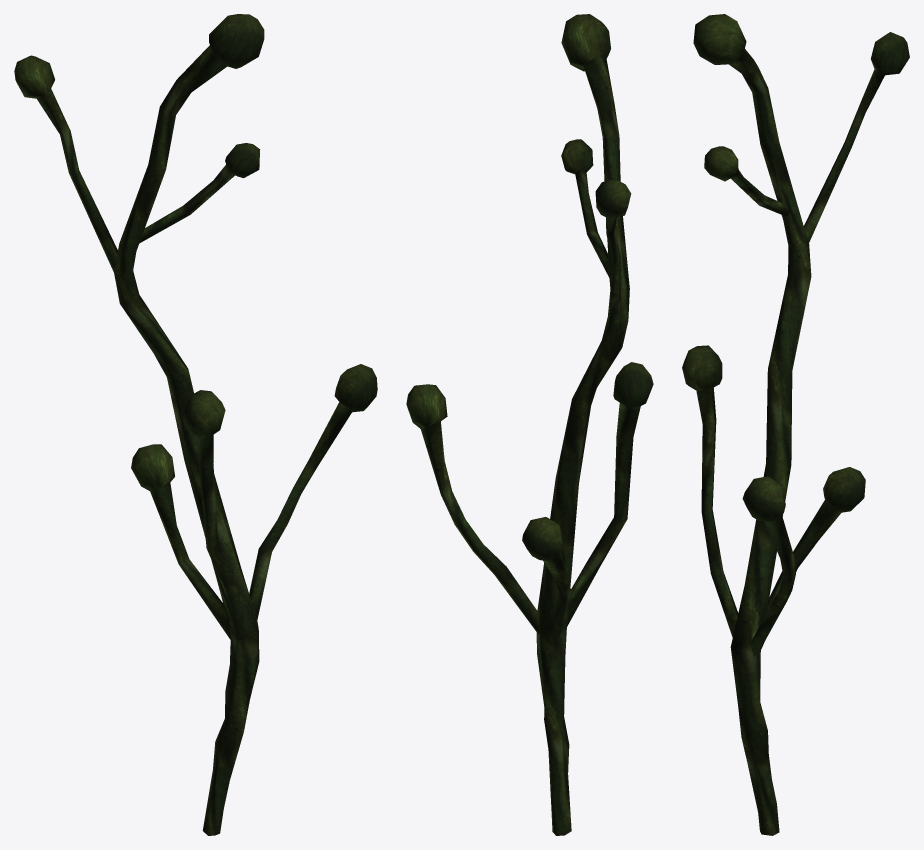
Rendered from PondWeed.003_FBX_still.fbx.
3 renders of one model, left to right at view 1: azimuth 30°, elevation 25°; view 2: azimuth 150°, elevation 25°; view 3: azimuth 270°, elevation 25°, orthographic. The views are drawn at different scales.
Visible parts, largest first — view 1: PondWeed.003_gameasset; view 2: PondWeed.003_gameasset; view 3: PondWeed.003_gameasset.
Part boxes in pixels (box(x1,y1,x2,y2)): PondWeed.003_gameasset: box(14, 14, 377, 835); PondWeed.003_gameasset: box(406, 14, 653, 835); PondWeed.003_gameasset: box(682, 14, 909, 835).
Size of the model in its own units: 5.85 by 15.88 by 4.01.
Materials: 1 (1 with a texture image).
